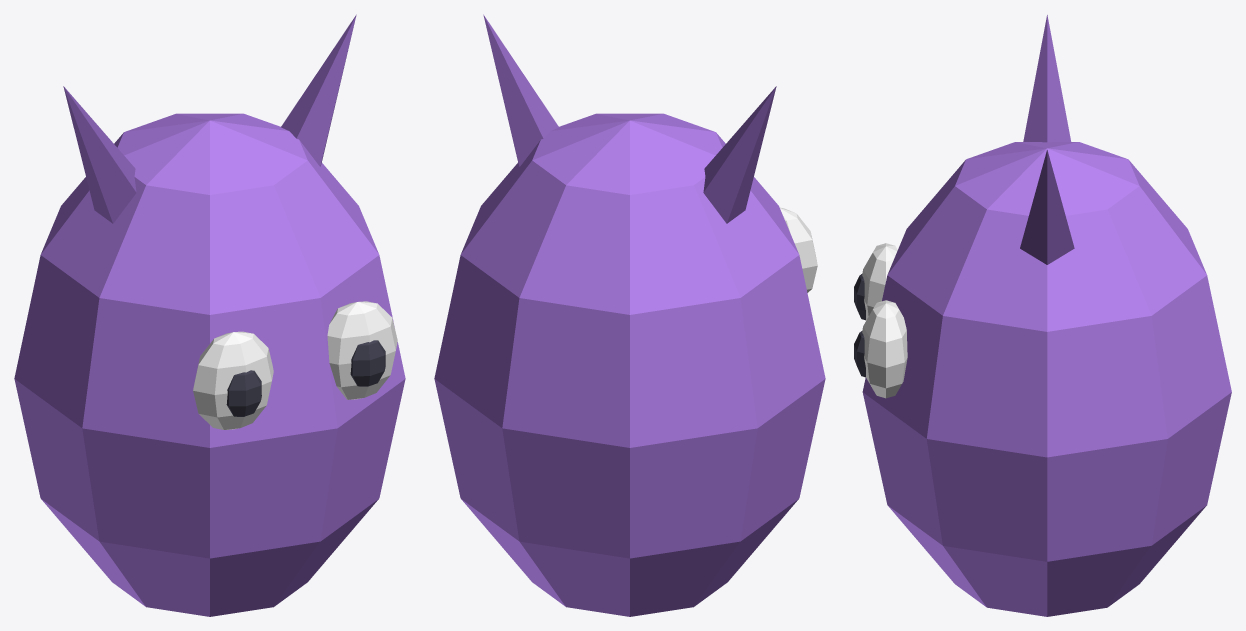
Rendered from fuddle.glb.
3 renders of one model, left to right at view 1: azimuth 30°, elevation 25°; view 2: azimuth 150°, elevation 25°; view 3: azimuth 270°, elevation 25°, orthographic. The views are drawn at different scales.
Visible parts, largest first — view 1: fuddle; view 2: fuddle; view 3: fuddle.
Boxes of the visible parts, <box> form: fuddle: <box>14,14,405,616</box>; fuddle: <box>434,14,825,616</box>; fuddle: <box>854,15,1231,616</box>.
Size of the model in its own units: 0.8244 by 1.32 by 0.8565.
